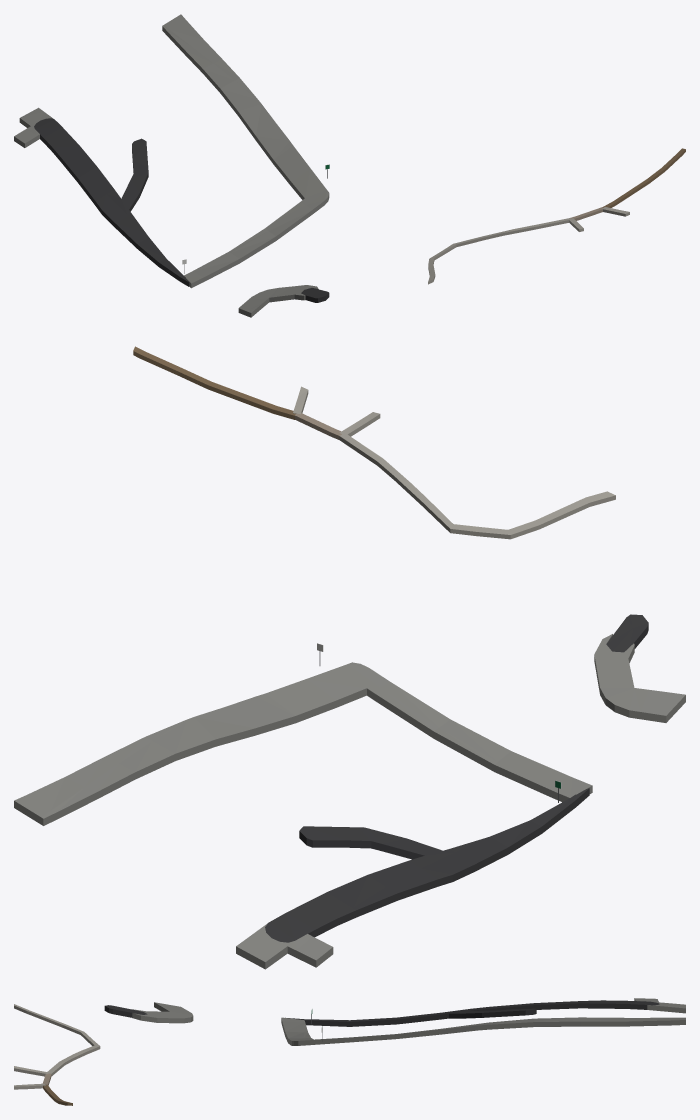
Rendered from 18-218865-118951.0079fca1.glb.
3 views of the same model, one above another, from view 1: azimuth 30°, elevation 25°; view 2: azimuth 150°, elevation 25°; view 3: azimuth 270°, elevation 25° (orthographic). The views are drawn at different scales.
Bounding box in the file's own units: 105 × 30.27 × 146.
